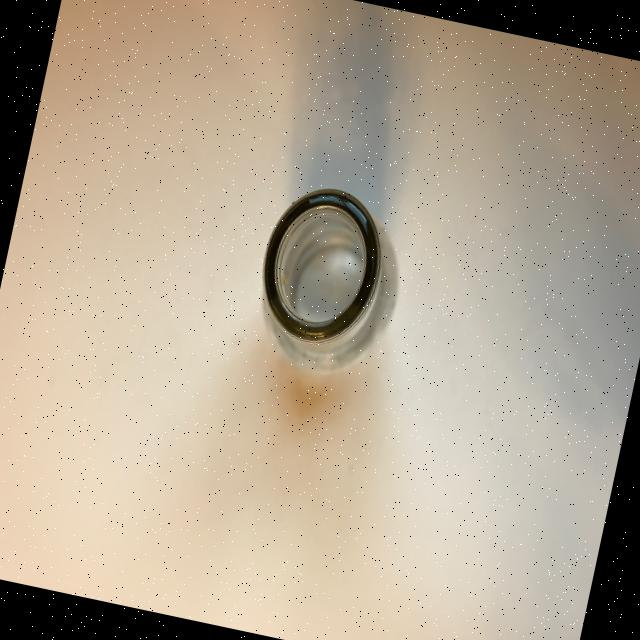metal: (242, 174, 400, 378)
